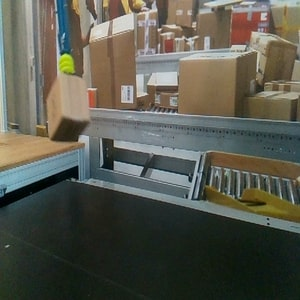box: (46, 73, 91, 143)
